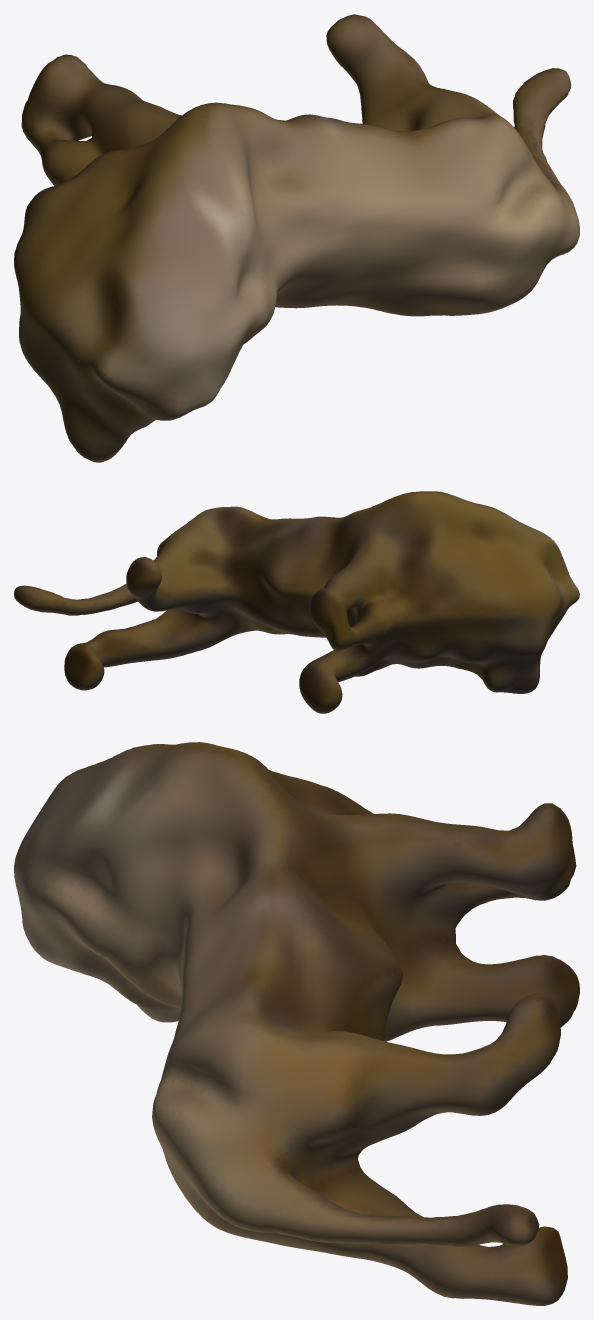
File: lion.glb
3 views of the same model, one above another, from view 1: azimuth 30°, elevation 25°; view 2: azimuth 150°, elevation 25°; view 3: azimuth 270°, elevation 25° (orthographic). The views are drawn at different scales.
Bounding box in the file's own units: 0.9989 × 0.416 × 0.6237.
